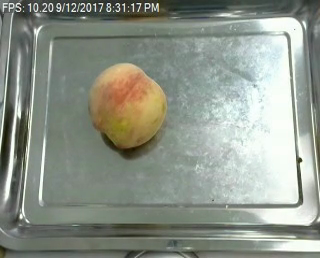Peach: (88, 61, 166, 150)
